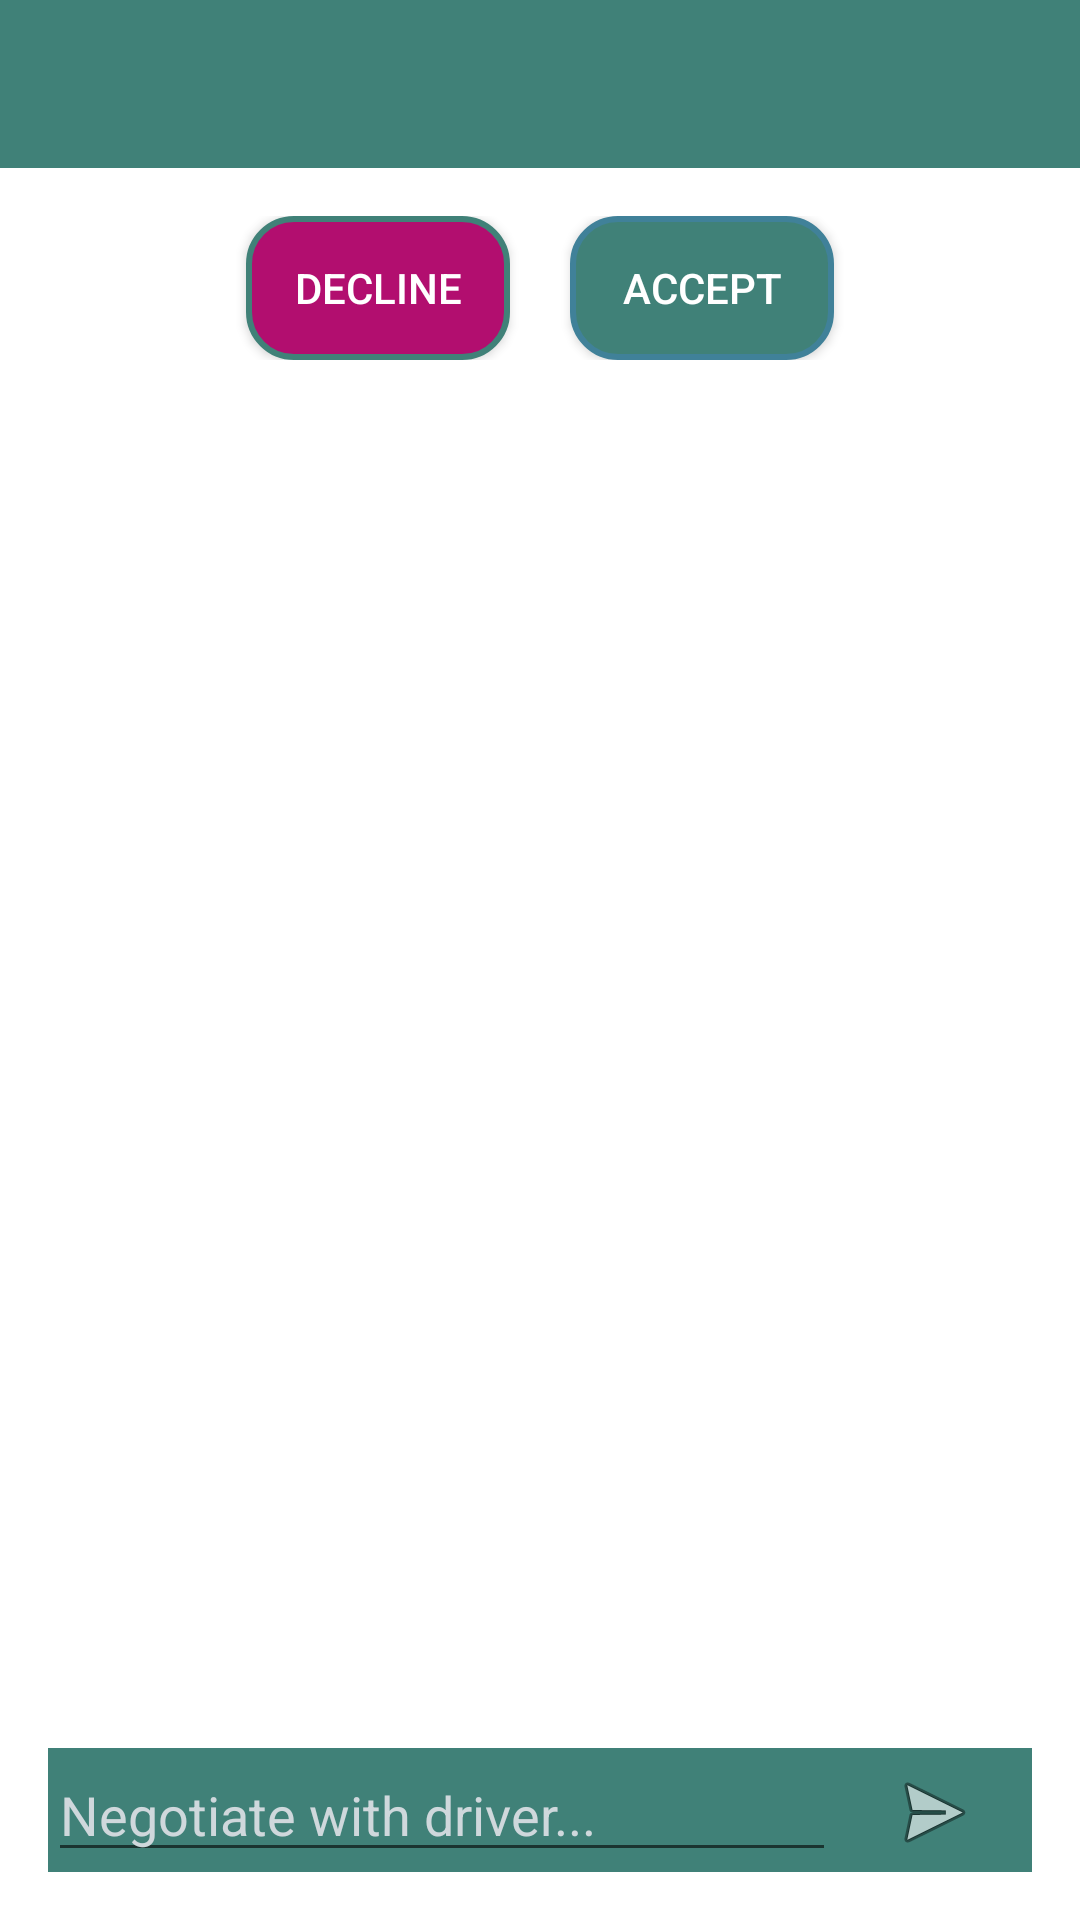

Icons on this 1080 x 1920 Android screen, each with the point to tap as (x,y):
send: (934,1812)
